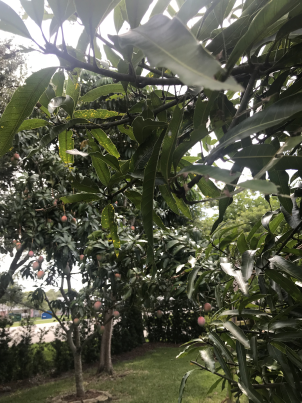weevil: (165, 129, 174, 139)
